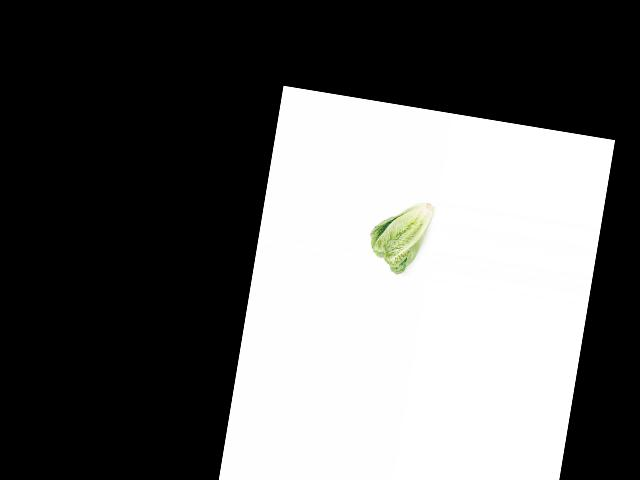lettuce: (365, 189, 437, 278)
